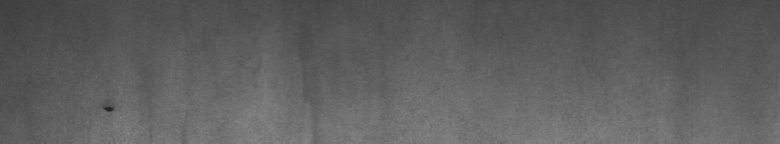fi: (101, 96, 119, 124)
